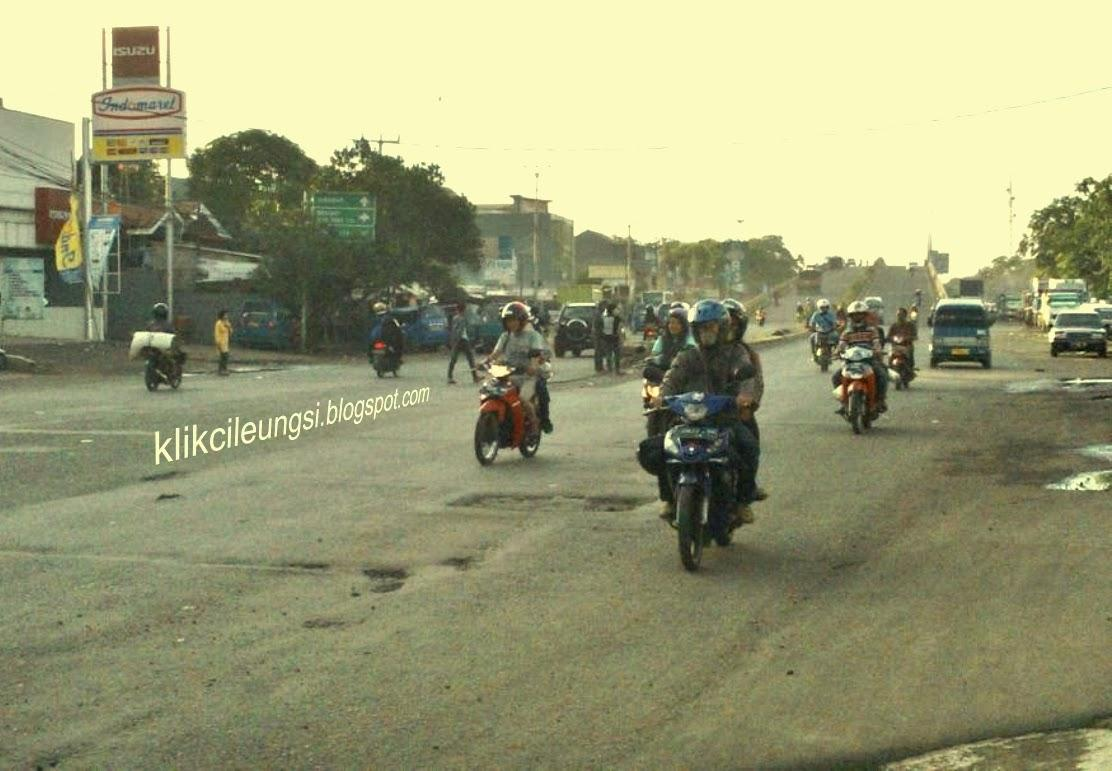Pothole: (261, 513, 486, 634), (413, 438, 653, 544), (1003, 363, 1112, 530), (86, 471, 213, 514)
